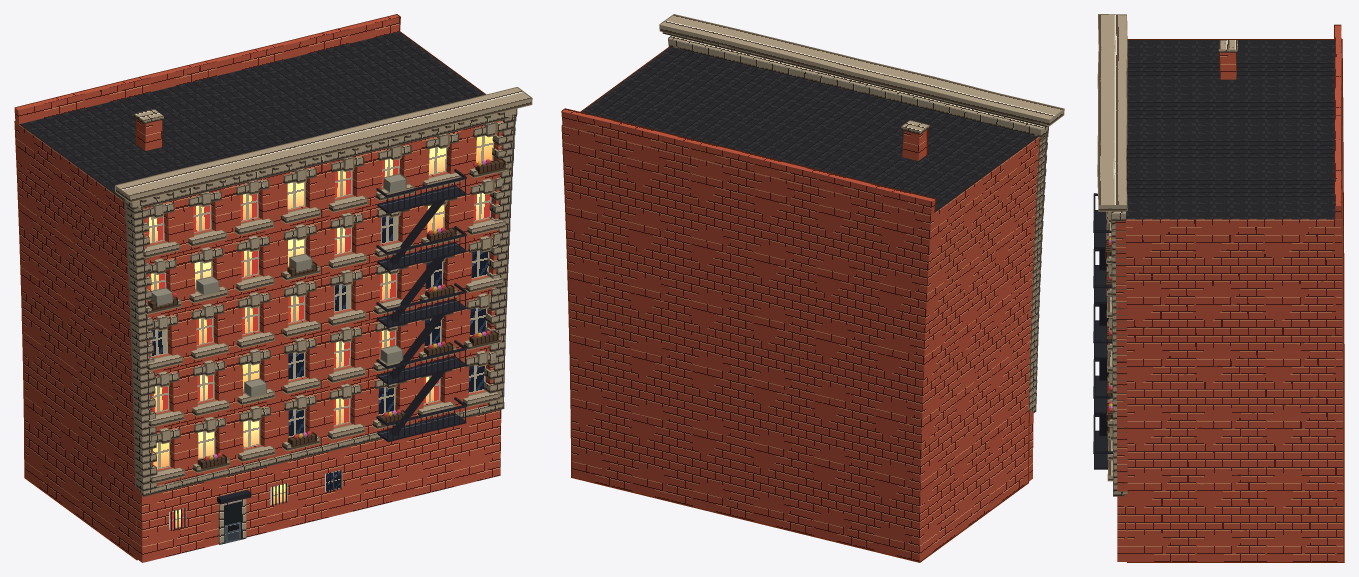
The model's file is Haus_back_6.glb.
The picture shows the model from 3 angles, left to right: view 1: azimuth 30°, elevation 25°; view 2: azimuth 150°, elevation 25°; view 3: azimuth 270°, elevation 25°; orthographic projection. The views are drawn at different scales.
Parts seen in each view (by area): view 1: Haus_back_6; view 2: Haus_back_6; view 3: Haus_back_6.
Part boxes in pixels (x1,y1,x2,y2): Haus_back_6: (14, 14, 532, 562); Haus_back_6: (561, 14, 1064, 562); Haus_back_6: (1093, 14, 1344, 562).
Bounding box in the file's own units: 25.88 × 24.01 × 14.42.
Materials: 20 (9 with a texture image).
